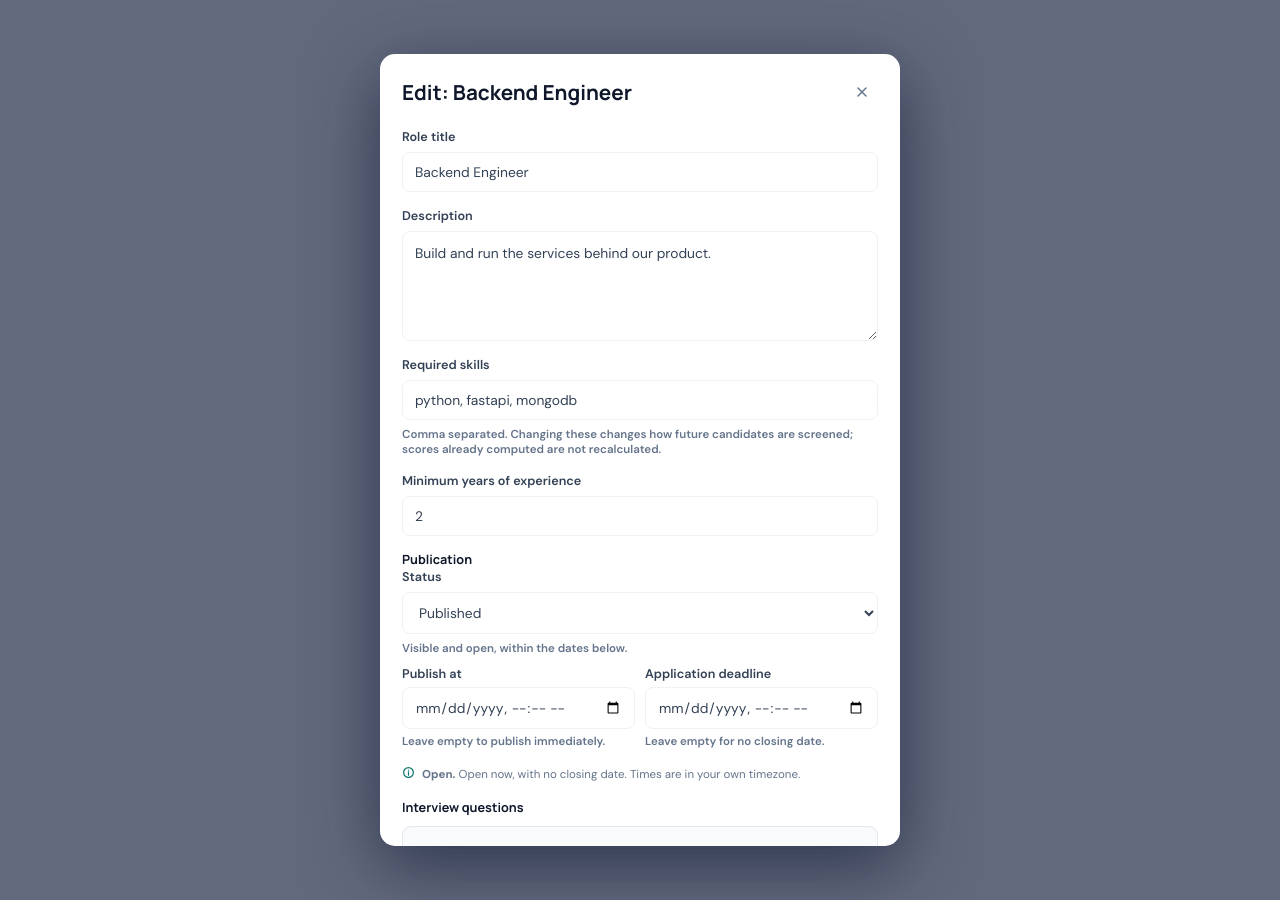
Test: editing a role › hides the dates for a draft, which they cannot affect
Check: the field labelled "Role title" is shown, box [402, 152, 878, 192]
Check: the field labelled "Application deadline Leave empty for no closing date." is shown, box [645, 687, 878, 729]
Select "Draft" in the dropdown labelled "Status Visible and open, within the dates below.": (640, 613) [402, 592, 878, 634]
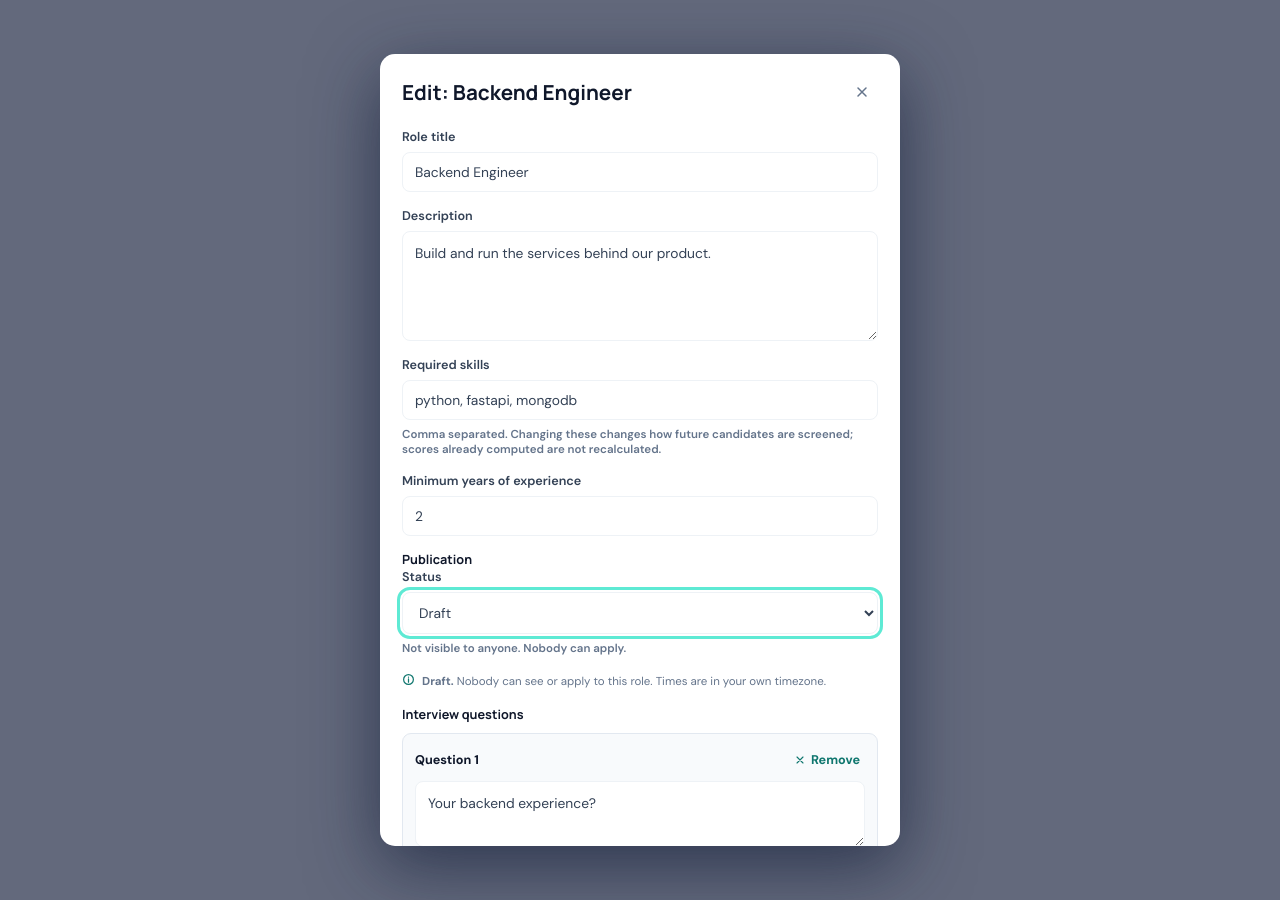
Check: the label labelled "Application deadline" is gone
